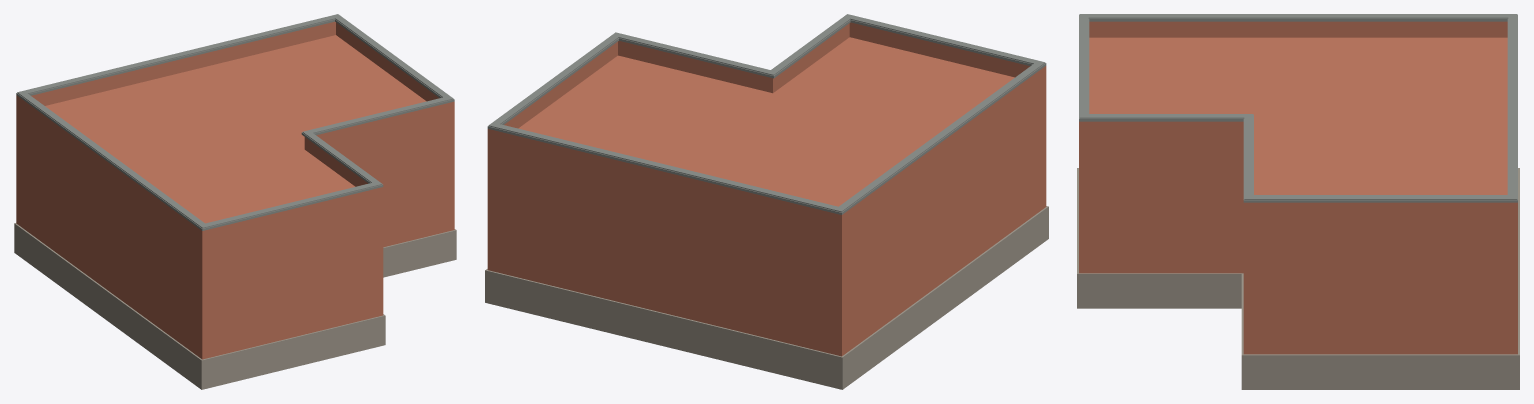
Rendered from building.glb.
The picture shows the model from 3 angles, left to right: view 1: azimuth 30°, elevation 25°; view 2: azimuth 150°, elevation 25°; view 3: azimuth 270°, elevation 25°; orthographic projection. The views are drawn at different scales.
Visible parts, largest first — view 1: roof/body:0/roof_slab#0001, body:0/edge5/z0/body:0/edge5/z0/wall_0_0, body:0/edge0/z0/body:0/edge0/z0/wall_0_0, roof/body:0/parapet#0001, trim/plinth/0/0/trim_plinth#0001, body:0/edge2/z0/body:0/edge2/z0/wall_0_0, roof/body:0/parapet_cap#0002, roof/body:0/parapet_cap#0001, body:0/edge4/z0/body:0/edge4/z0/wall_0_0, body:0/edge3/z0/body:0/edge3/z0/wall_0_0; view 2: roof/body:0/roof_slab#0001, body:0/edge4/z0/body:0/edge4/z0/wall_0_0, body:0/edge5/z0/body:0/edge5/z0/wall_0_0, trim/plinth/0/0/trim_plinth#0001, roof/body:0/parapet#0001, roof/body:0/parapet_cap#0002, roof/body:0/parapet_cap#0001, body:0/edge3/z0/body:0/edge3/z0/wall_0_0, body:0/edge0/z0/body:0/edge0/z0/wall_0_0; view 3: roof/body:0/roof_slab#0001, body:0/edge3/z0/body:0/edge3/z0/wall_0_0, body:0/edge1/z0/body:0/edge1/z0/wall_0_0, trim/plinth/0/0/trim_plinth#0001, roof/body:0/parapet#0001, roof/body:0/parapet_cap#0002, roof/body:0/parapet_cap#0001, body:0/edge2/z0/body:0/edge2/z0/wall_0_0, body:0/edge0/z0/body:0/edge0/z0/wall_0_0, body:0/edge5/z0/body:0/edge5/z0/wall_0_0, body:0/edge4/z0/body:0/edge4/z0/wall_0_0.
Boxes of the visible parts, bbox=[...] form: roof/body:0/roof_slab#0001: bbox=[20, 35, 449, 251]; body:0/edge5/z0/body:0/edge5/z0/wall_0_0: bbox=[16, 112, 210, 358]; body:0/edge0/z0/body:0/edge0/z0/wall_0_0: bbox=[197, 202, 383, 359]; roof/body:0/parapet#0001: bbox=[16, 21, 454, 245]; trim/plinth/0/0/trim_plinth#0001: bbox=[14, 223, 456, 389]; body:0/edge2/z0/body:0/edge2/z0/wall_0_0: bbox=[332, 116, 454, 247]; roof/body:0/parapet_cap#0002: bbox=[17, 14, 453, 228]; roof/body:0/parapet_cap#0001: bbox=[16, 19, 454, 230]; body:0/edge4/z0/body:0/edge4/z0/wall_0_0: bbox=[16, 35, 336, 226]; body:0/edge3/z0/body:0/edge3/z0/wall_0_0: bbox=[334, 35, 454, 231]; roof/body:0/roof_slab#0001: bbox=[489, 37, 1041, 239]; body:0/edge4/z0/body:0/edge4/z0/wall_0_0: bbox=[488, 145, 846, 356]; body:0/edge5/z0/body:0/edge5/z0/wall_0_0: bbox=[833, 82, 1046, 355]; trim/plinth/0/0/trim_plinth#0001: bbox=[485, 206, 1048, 389]; roof/body:0/parapet#0001: bbox=[487, 22, 1046, 231]; roof/body:0/parapet_cap#0002: bbox=[488, 14, 1045, 212]; roof/body:0/parapet_cap#0001: bbox=[487, 19, 1046, 214]; body:0/edge3/z0/body:0/edge3/z0/wall_0_0: bbox=[487, 56, 620, 271]; body:0/edge0/z0/body:0/edge0/z0/wall_0_0: bbox=[849, 37, 1046, 209]; roof/body:0/roof_slab#0001: bbox=[1079, 38, 1517, 228]; body:0/edge3/z0/body:0/edge3/z0/wall_0_0: bbox=[1243, 220, 1517, 354]; body:0/edge1/z0/body:0/edge1/z0/wall_0_0: bbox=[1079, 139, 1243, 273]; trim/plinth/0/0/trim_plinth#0001: bbox=[1077, 168, 1519, 389]; roof/body:0/parapet#0001: bbox=[1079, 21, 1517, 219]; roof/body:0/parapet_cap#0002: bbox=[1079, 14, 1517, 199]; roof/body:0/parapet_cap#0001: bbox=[1079, 14, 1517, 202]; body:0/edge2/z0/body:0/edge2/z0/wall_0_0: bbox=[1243, 140, 1254, 354]; body:0/edge0/z0/body:0/edge0/z0/wall_0_0: bbox=[1079, 39, 1089, 273]; body:0/edge5/z0/body:0/edge5/z0/wall_0_0: bbox=[1089, 37, 1507, 39]; body:0/edge4/z0/body:0/edge4/z0/wall_0_0: bbox=[1507, 37, 1517, 354].
Size of the model in its own units: 8.07 by 3.82 by 8.07.
